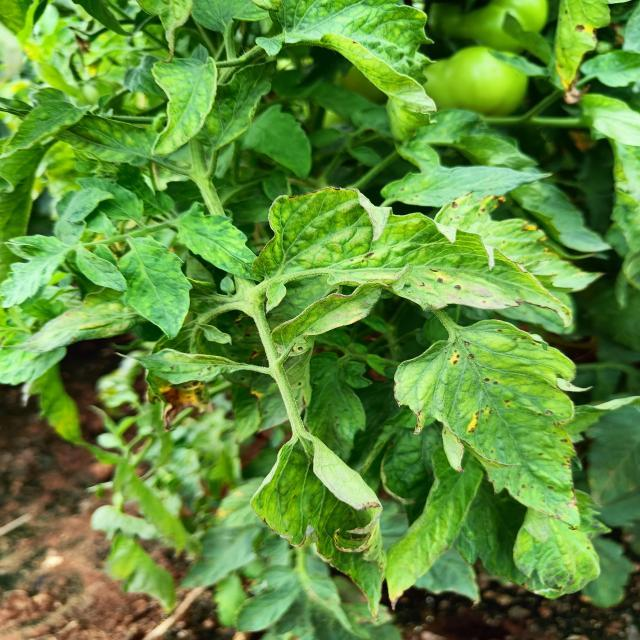Tomato mosaic virus leaf: (385, 320, 598, 535), (316, 182, 588, 330)
